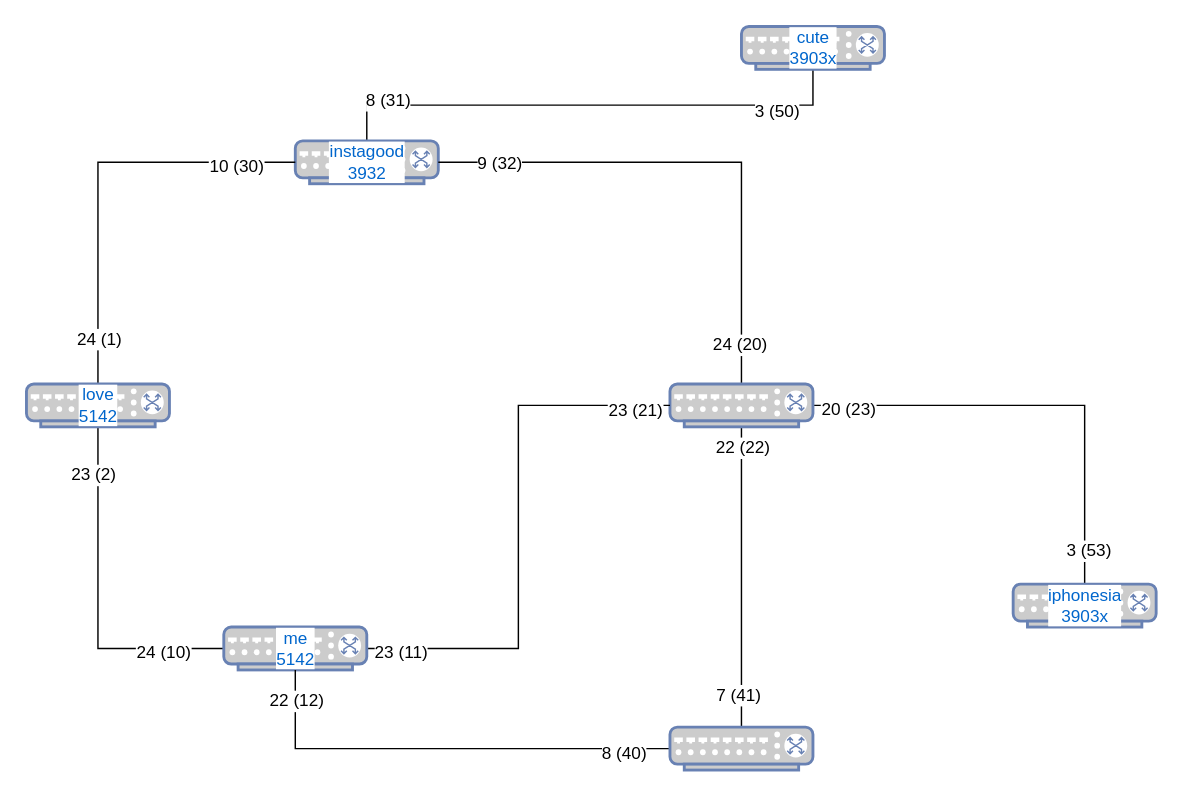
This 1181x795 diagram has some shape labels left out. Each missing label, with the box of its shape:
instamood 3932: (668, 725, 814, 771)
tbt 5142: (668, 382, 814, 428)
